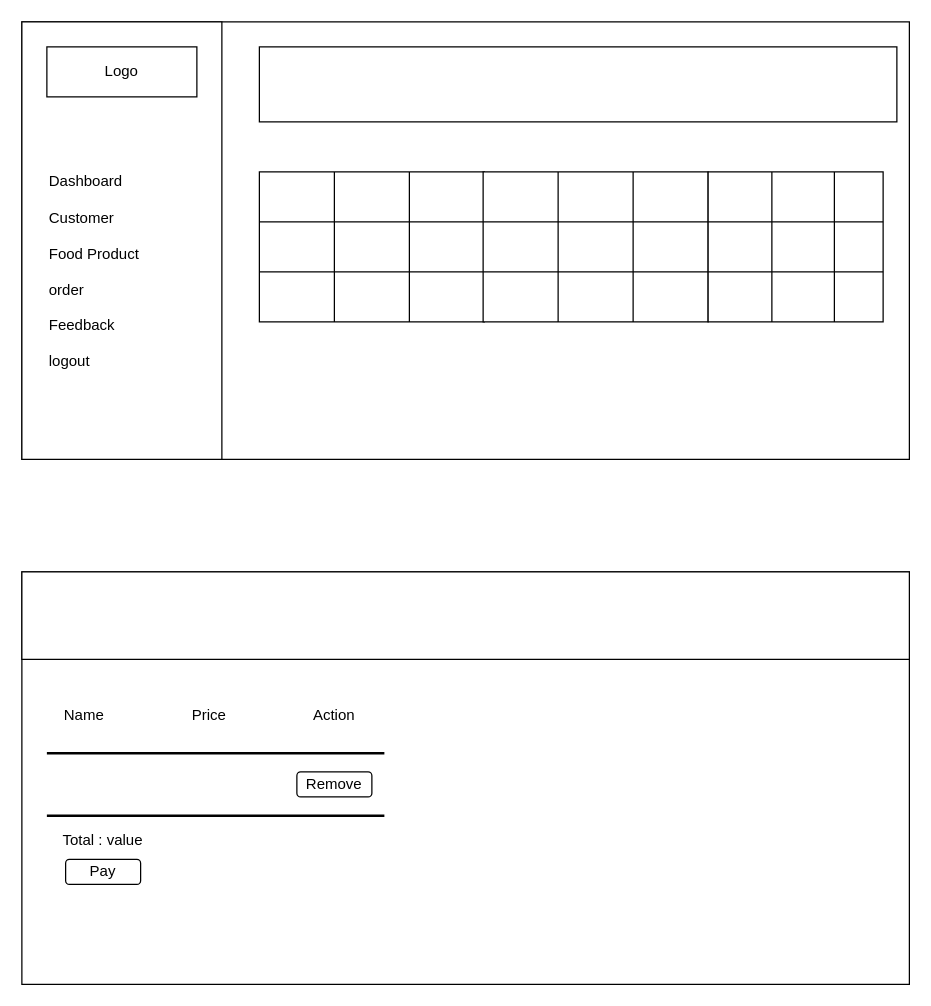
Image size: 931x1006. Some labels were removed from this diagram. The box of each missing label's shape, as (x1, y1, x2, y2) in pixels:
Cart Items: (21, 571, 909, 659)
Welcome to Order Page: (258, 46, 897, 122)
